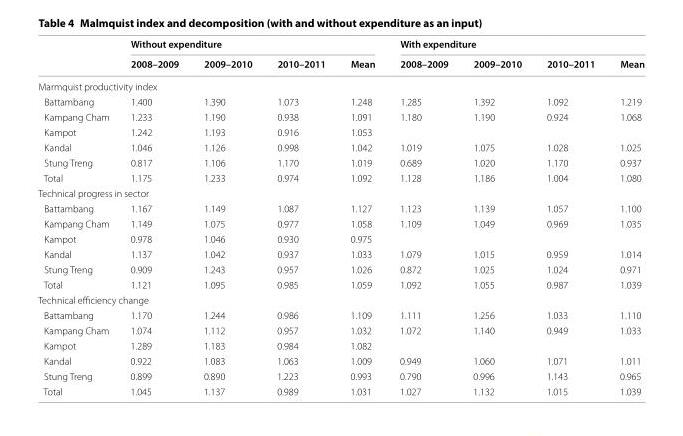table: (37, 37, 643, 396)
table column: (37, 37, 119, 396), (263, 37, 337, 396), (386, 37, 460, 396), (190, 37, 263, 396), (460, 37, 533, 396), (533, 37, 606, 396), (119, 37, 190, 396), (337, 37, 386, 396), (606, 37, 643, 396)
table column header: (37, 37, 643, 74)
table projected row header: (37, 74, 643, 93), (37, 291, 643, 307), (37, 185, 643, 200)
table row: (37, 53, 643, 74), (37, 74, 643, 93), (37, 37, 643, 53), (37, 93, 643, 109), (37, 169, 643, 185), (37, 230, 643, 246), (37, 291, 643, 307), (37, 352, 643, 368), (37, 109, 643, 124), (37, 124, 643, 139), (37, 139, 643, 154), (37, 154, 643, 169), (37, 185, 643, 200), (37, 200, 643, 215), (37, 215, 643, 230), (37, 246, 643, 261), (37, 261, 643, 276), (37, 276, 643, 291), (37, 307, 643, 322), (37, 322, 643, 337), (37, 337, 643, 352), (37, 368, 643, 383), (37, 383, 643, 396)
table spanning cell: (119, 37, 386, 53), (386, 37, 643, 53)
